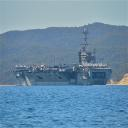Portanaves: (10, 29, 114, 88)
